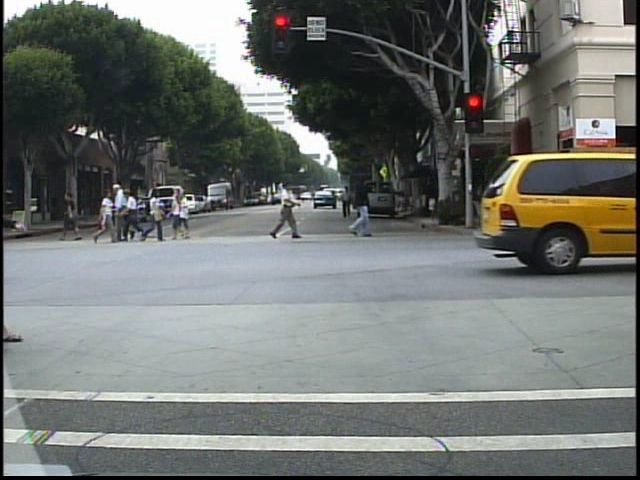person: (341, 168, 381, 241), (272, 179, 301, 240), (123, 185, 147, 245), (145, 187, 168, 245), (94, 187, 114, 248), (60, 186, 81, 243), (112, 180, 129, 245)
